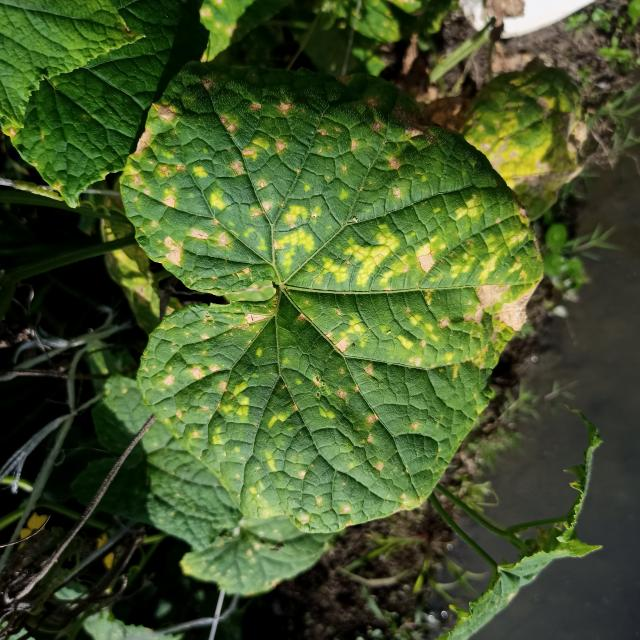disease_cucumber: (124, 67, 535, 502)
